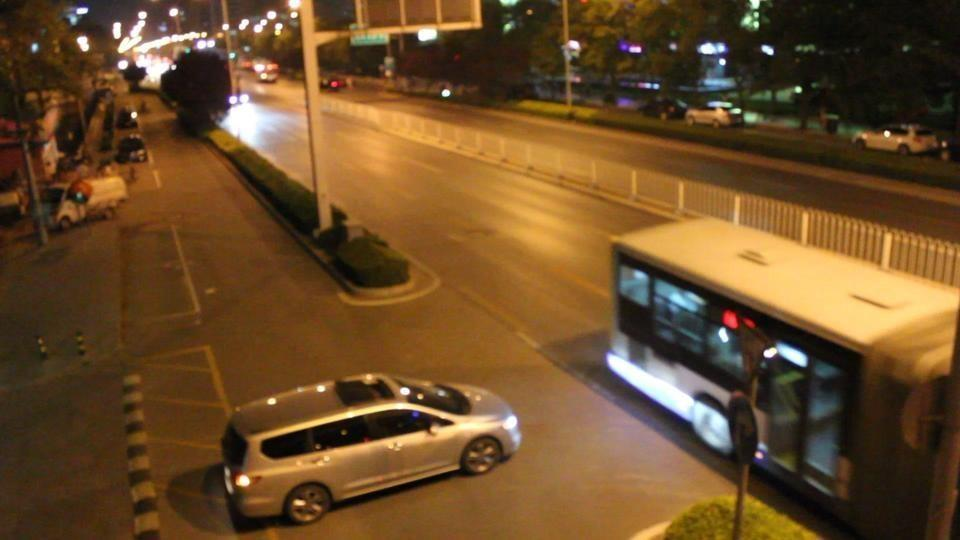car: (219, 372, 521, 527), (853, 125, 947, 158), (69, 172, 129, 215), (37, 183, 88, 232), (685, 102, 744, 129), (636, 98, 690, 122), (115, 135, 149, 165), (253, 62, 279, 83)
